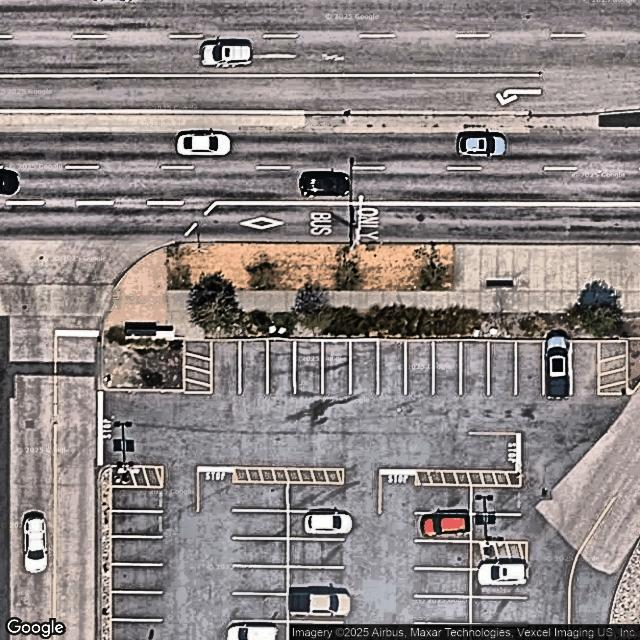car: (545, 329, 570, 400), (288, 592, 353, 616), (421, 510, 471, 537), (477, 563, 527, 586), (307, 513, 353, 536), (227, 624, 277, 640)
lot_boundary: (103, 340, 640, 640)
objects: (473, 541, 527, 569)
stall: (288, 483, 343, 512), (233, 537, 288, 566), (416, 541, 471, 570), (472, 597, 527, 626), (288, 511, 342, 540), (416, 569, 470, 598), (471, 486, 525, 515), (417, 486, 471, 515), (472, 514, 526, 543), (232, 510, 287, 538), (289, 539, 344, 567), (233, 593, 288, 621), (416, 597, 471, 625), (472, 569, 527, 597), (544, 341, 573, 394), (515, 342, 544, 395), (240, 341, 269, 394), (350, 341, 379, 394), (233, 566, 287, 594), (233, 483, 287, 511), (288, 594, 342, 622), (288, 567, 342, 595), (416, 513, 470, 541), (571, 342, 600, 394), (460, 342, 489, 394), (267, 340, 296, 392), (488, 341, 516, 394), (212, 340, 240, 393), (295, 340, 323, 392), (378, 342, 406, 394), (433, 342, 461, 394), (405, 342, 433, 394), (322, 342, 350, 394), (113, 592, 162, 619), (112, 511, 161, 537), (112, 537, 161, 563), (112, 565, 161, 591), (112, 487, 161, 511), (232, 621, 288, 640), (111, 619, 160, 640)
